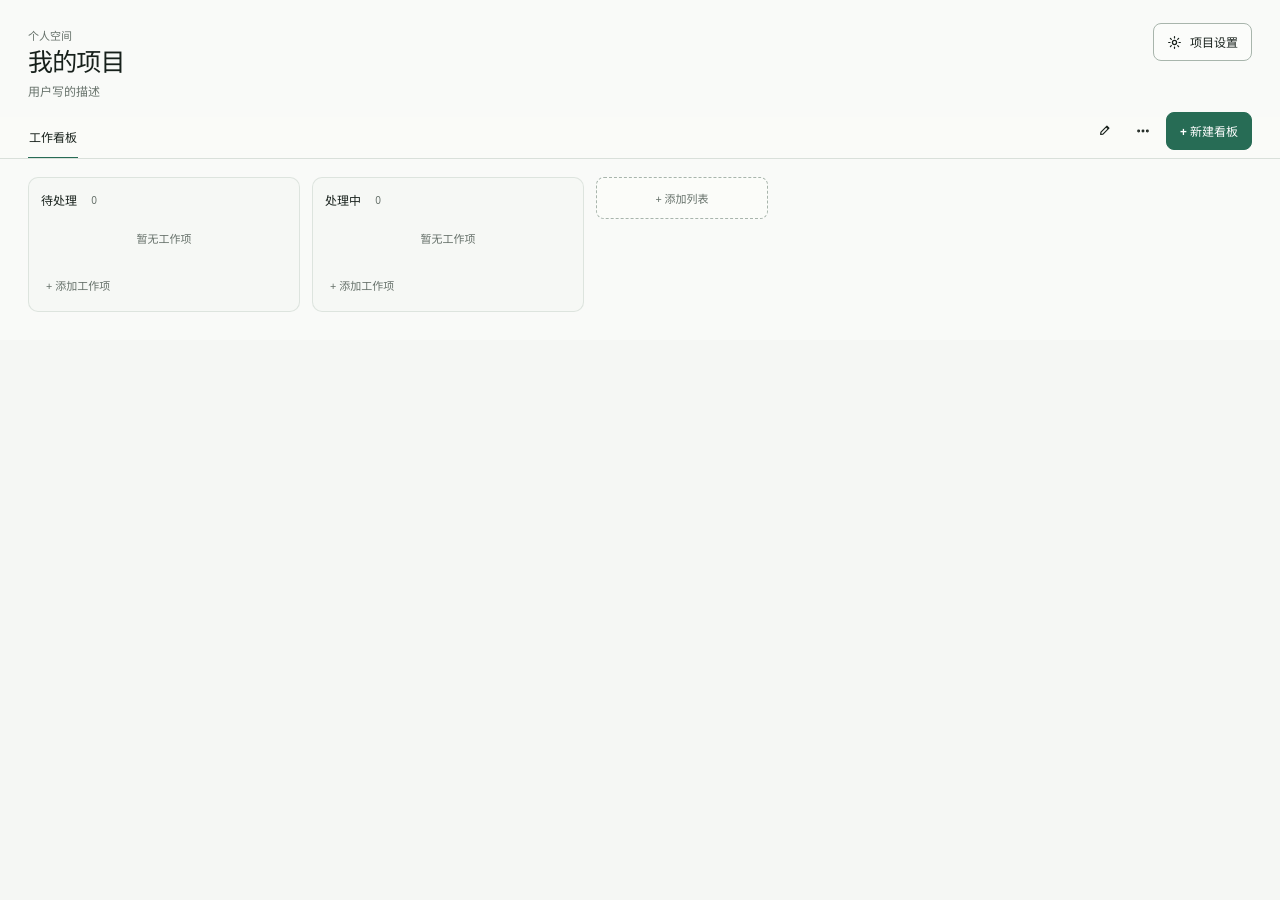
Test: Project board deletion › asks before discarding dirty confirmation and restores focus
This screenshot has width=1280, height=900.
Step 1. Click the button named "看板操作" → click(1143, 131), box x1=1128 y1=116 x2=1158 y2=146
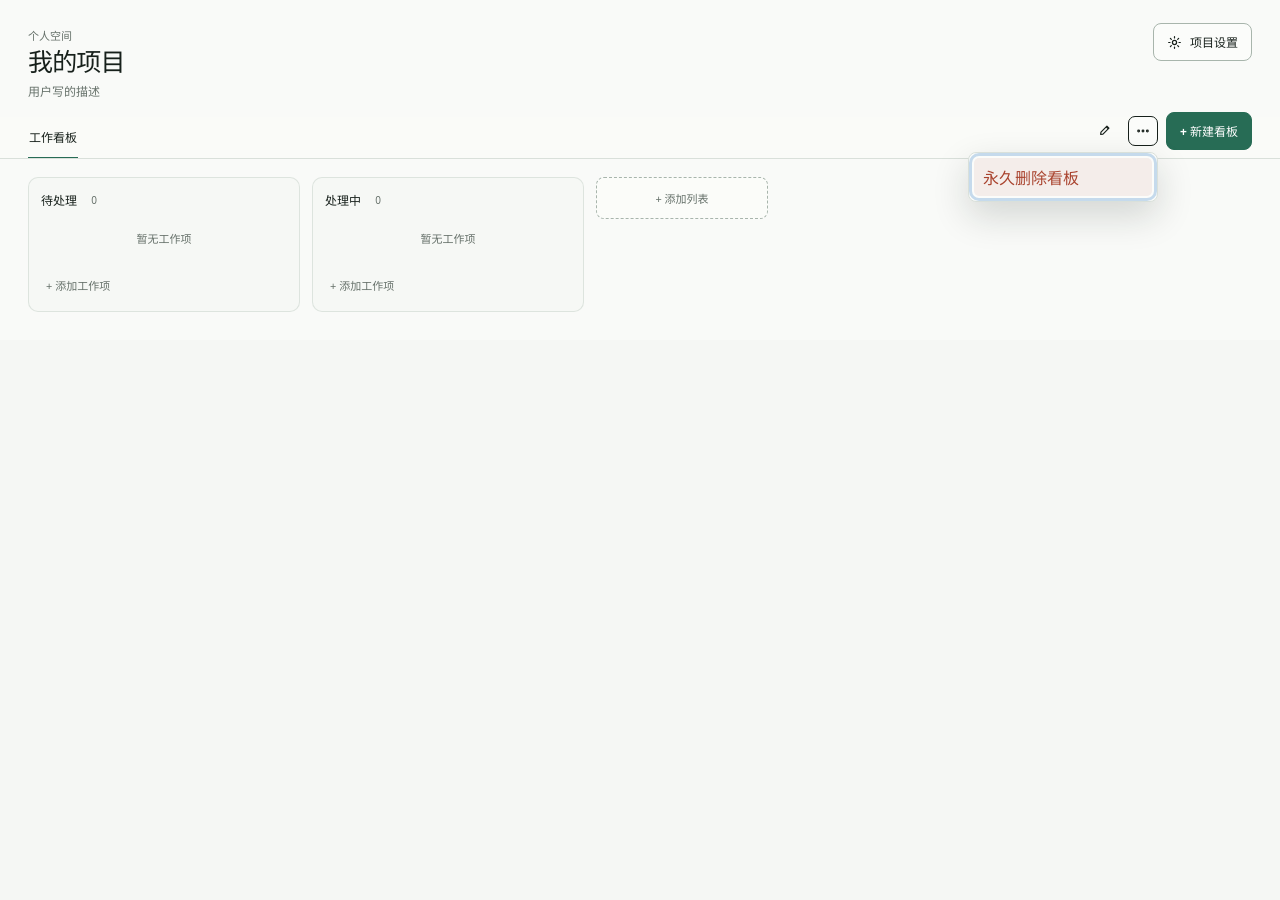
Step 2. Click the menu item "永久删除看板" → click(1063, 177), box x1=974 y1=158 x2=1152 y2=196
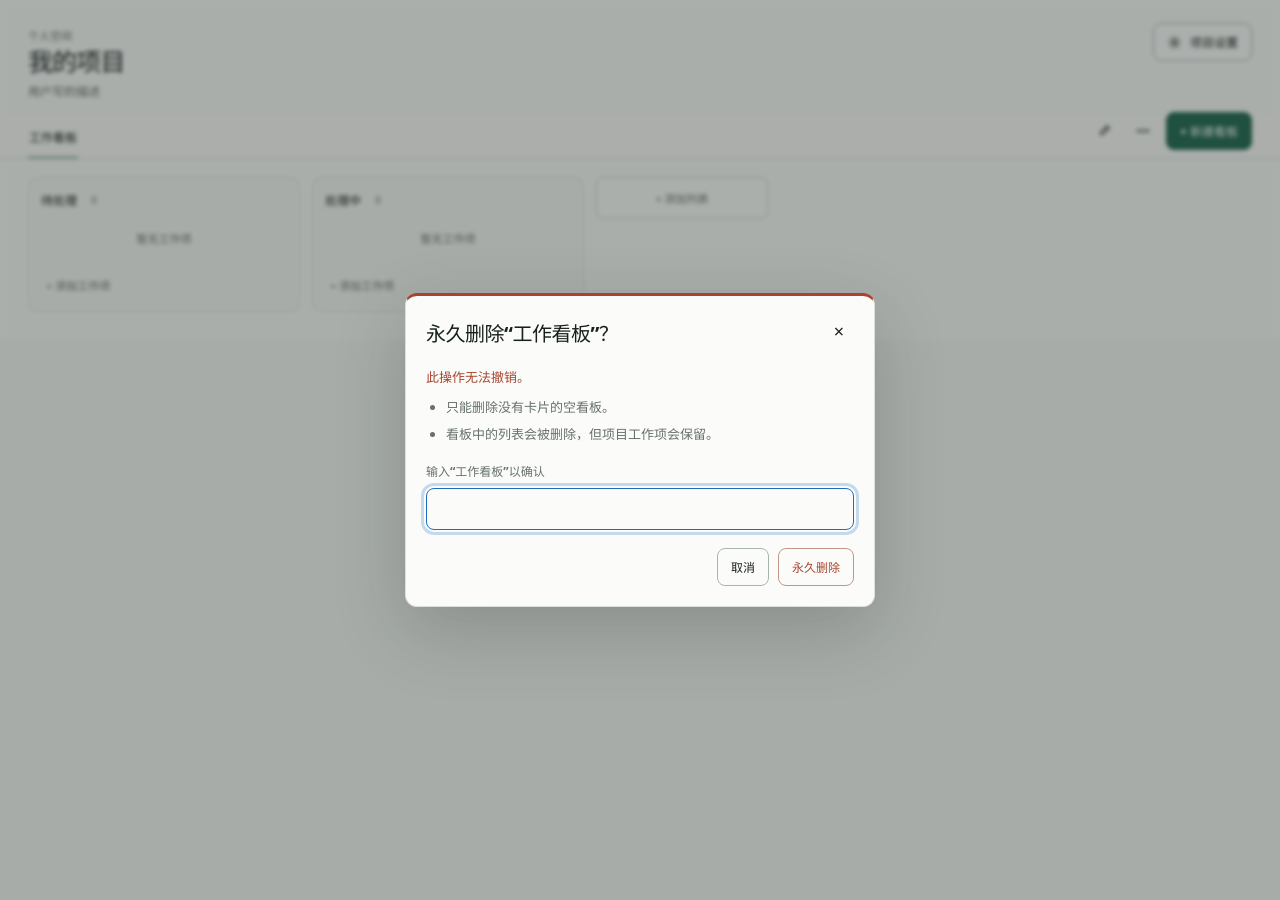
Step 3. Type "工作" into the field labelled "输入“工作看板”以确认" → (640, 509), box x1=426 y1=488 x2=854 y2=530
Step 4. Press Escape
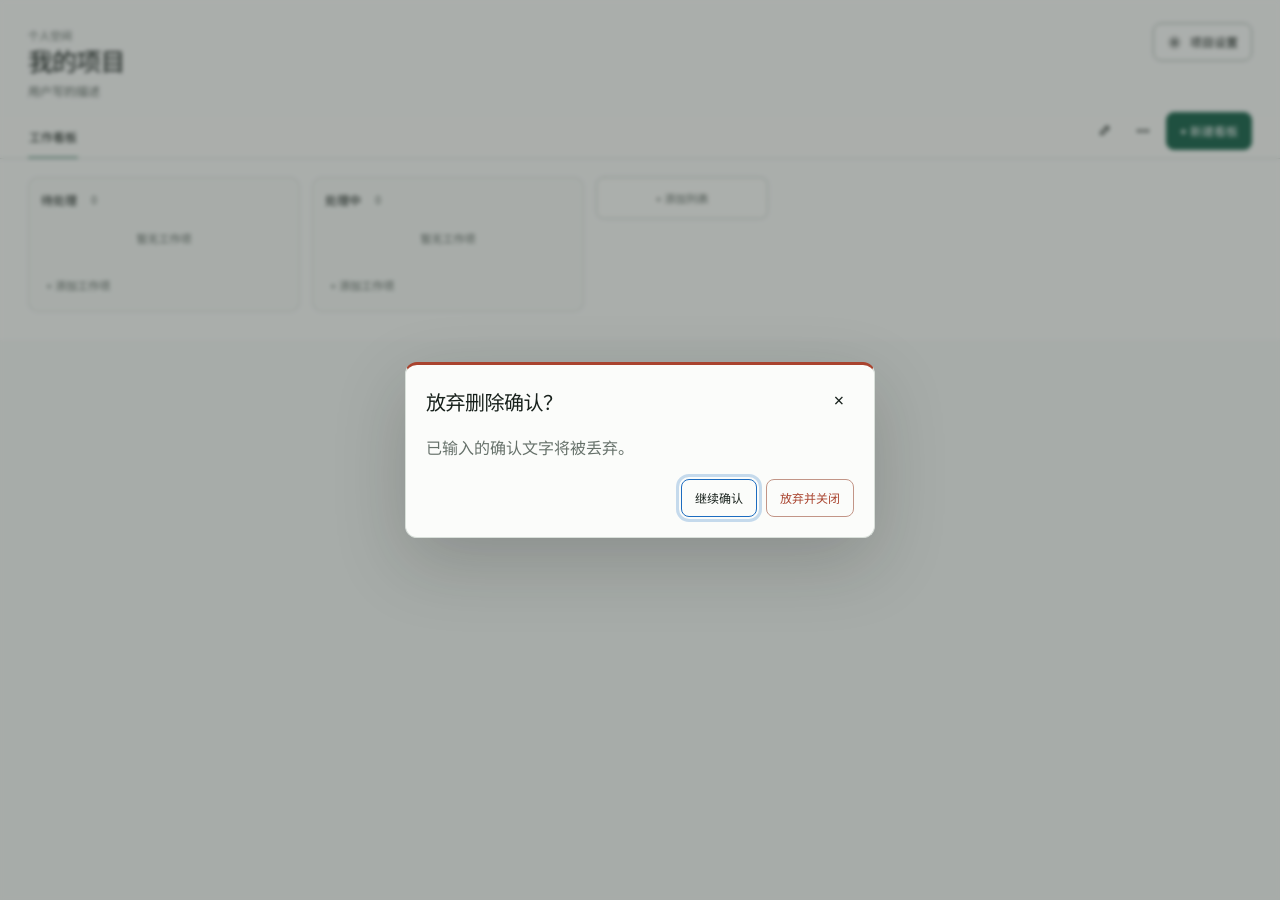
Expected: the heading "放弃删除确认？" is shown, x1=426 y1=389 x2=562 y2=416
Step 5. Click the button "继续确认" → click(719, 498), box x1=681 y1=479 x2=757 y2=517
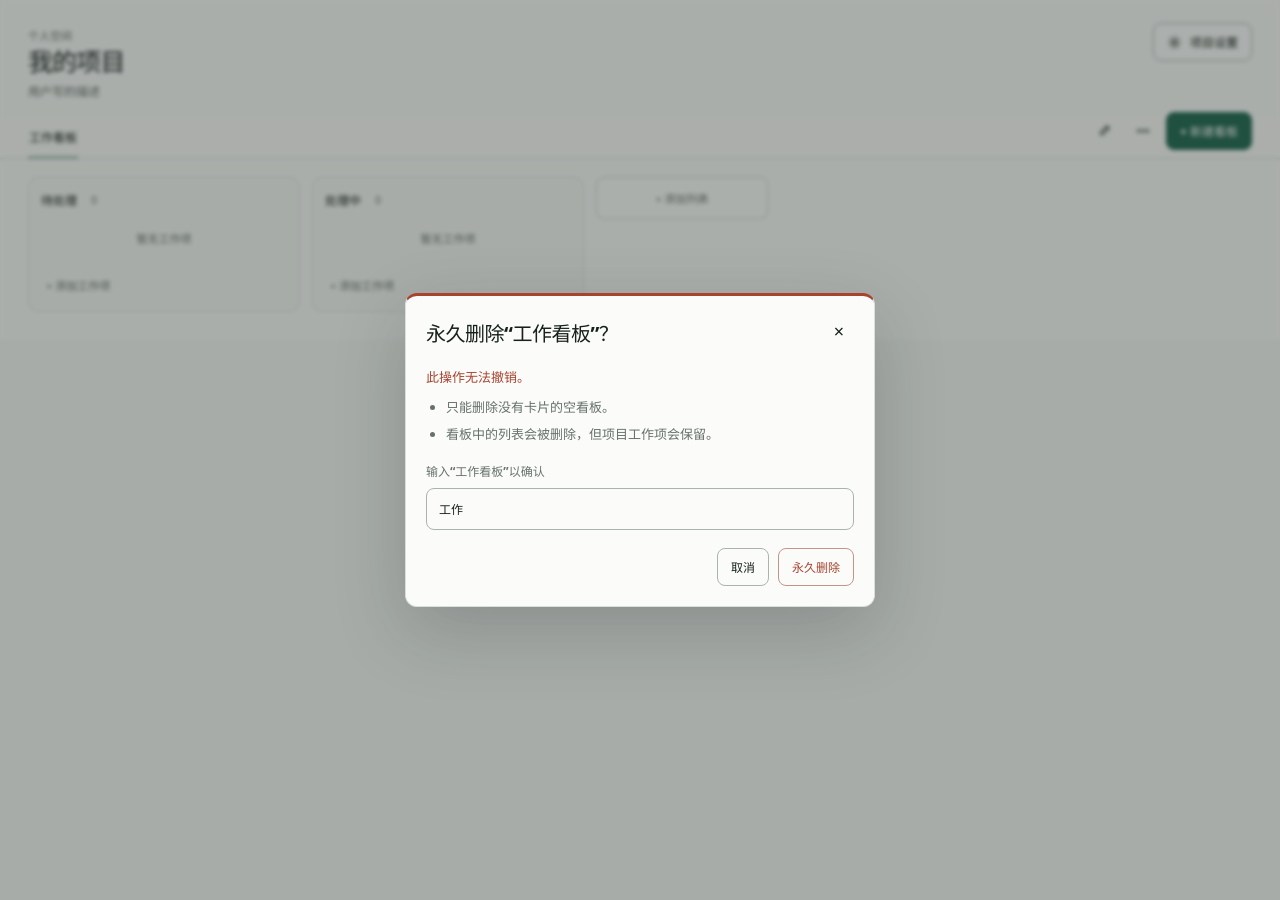
Expected: the field labelled "输入“工作看板”以确认" holds "工作", x1=426 y1=488 x2=854 y2=530
Step 6. Press Escape
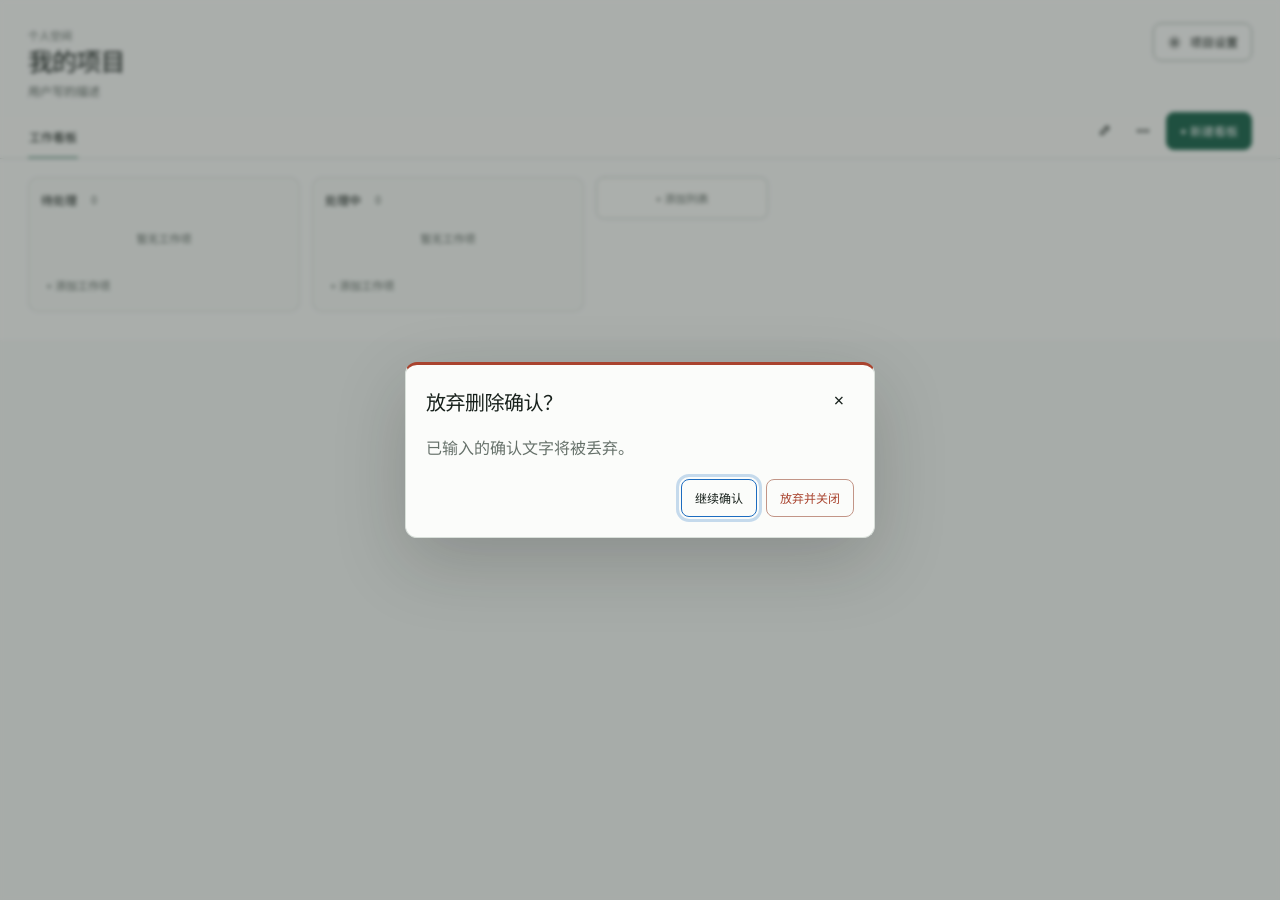
Step 7. Click the button "放弃并关闭" → click(810, 498), box x1=766 y1=479 x2=854 y2=517
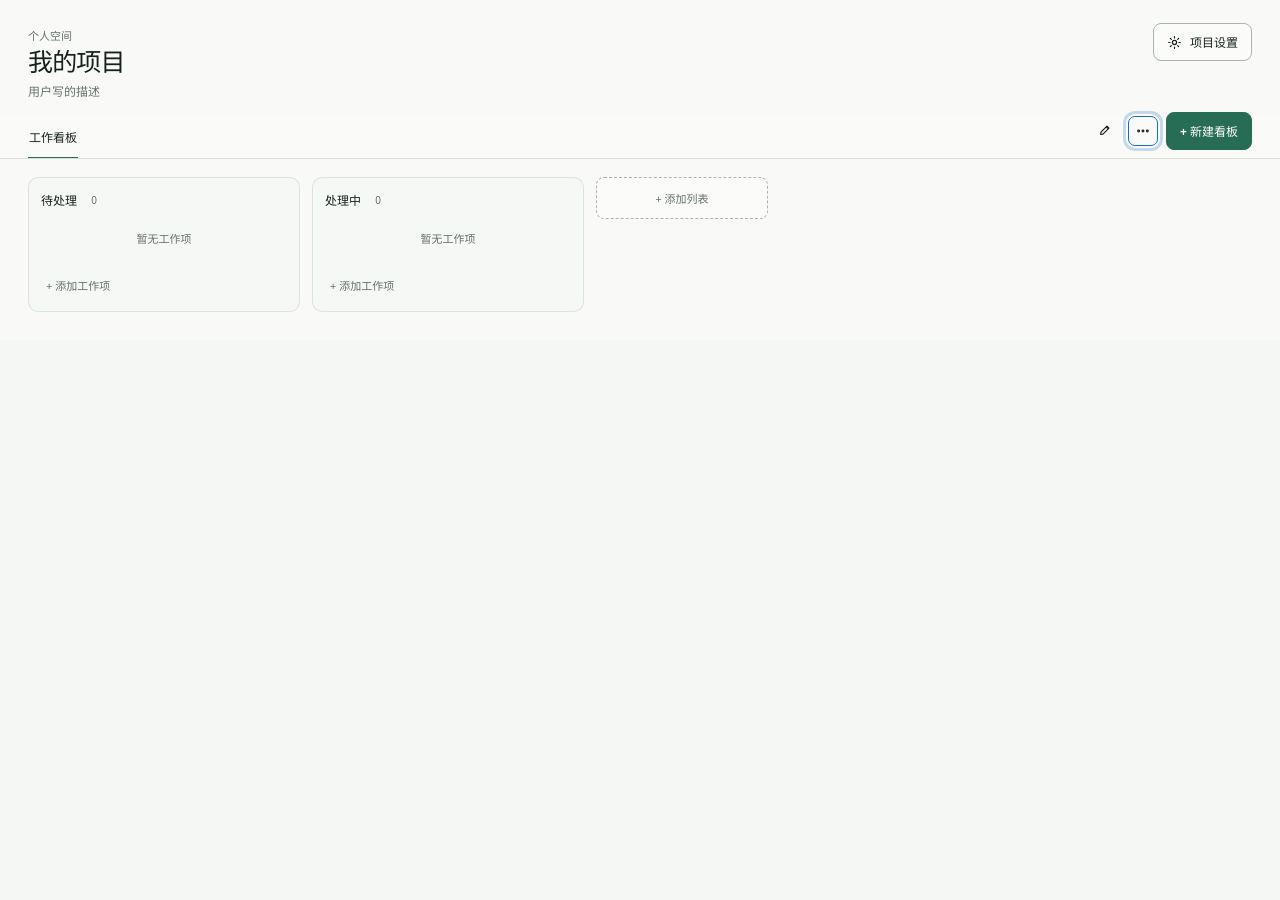
Expected: the dialog is gone
